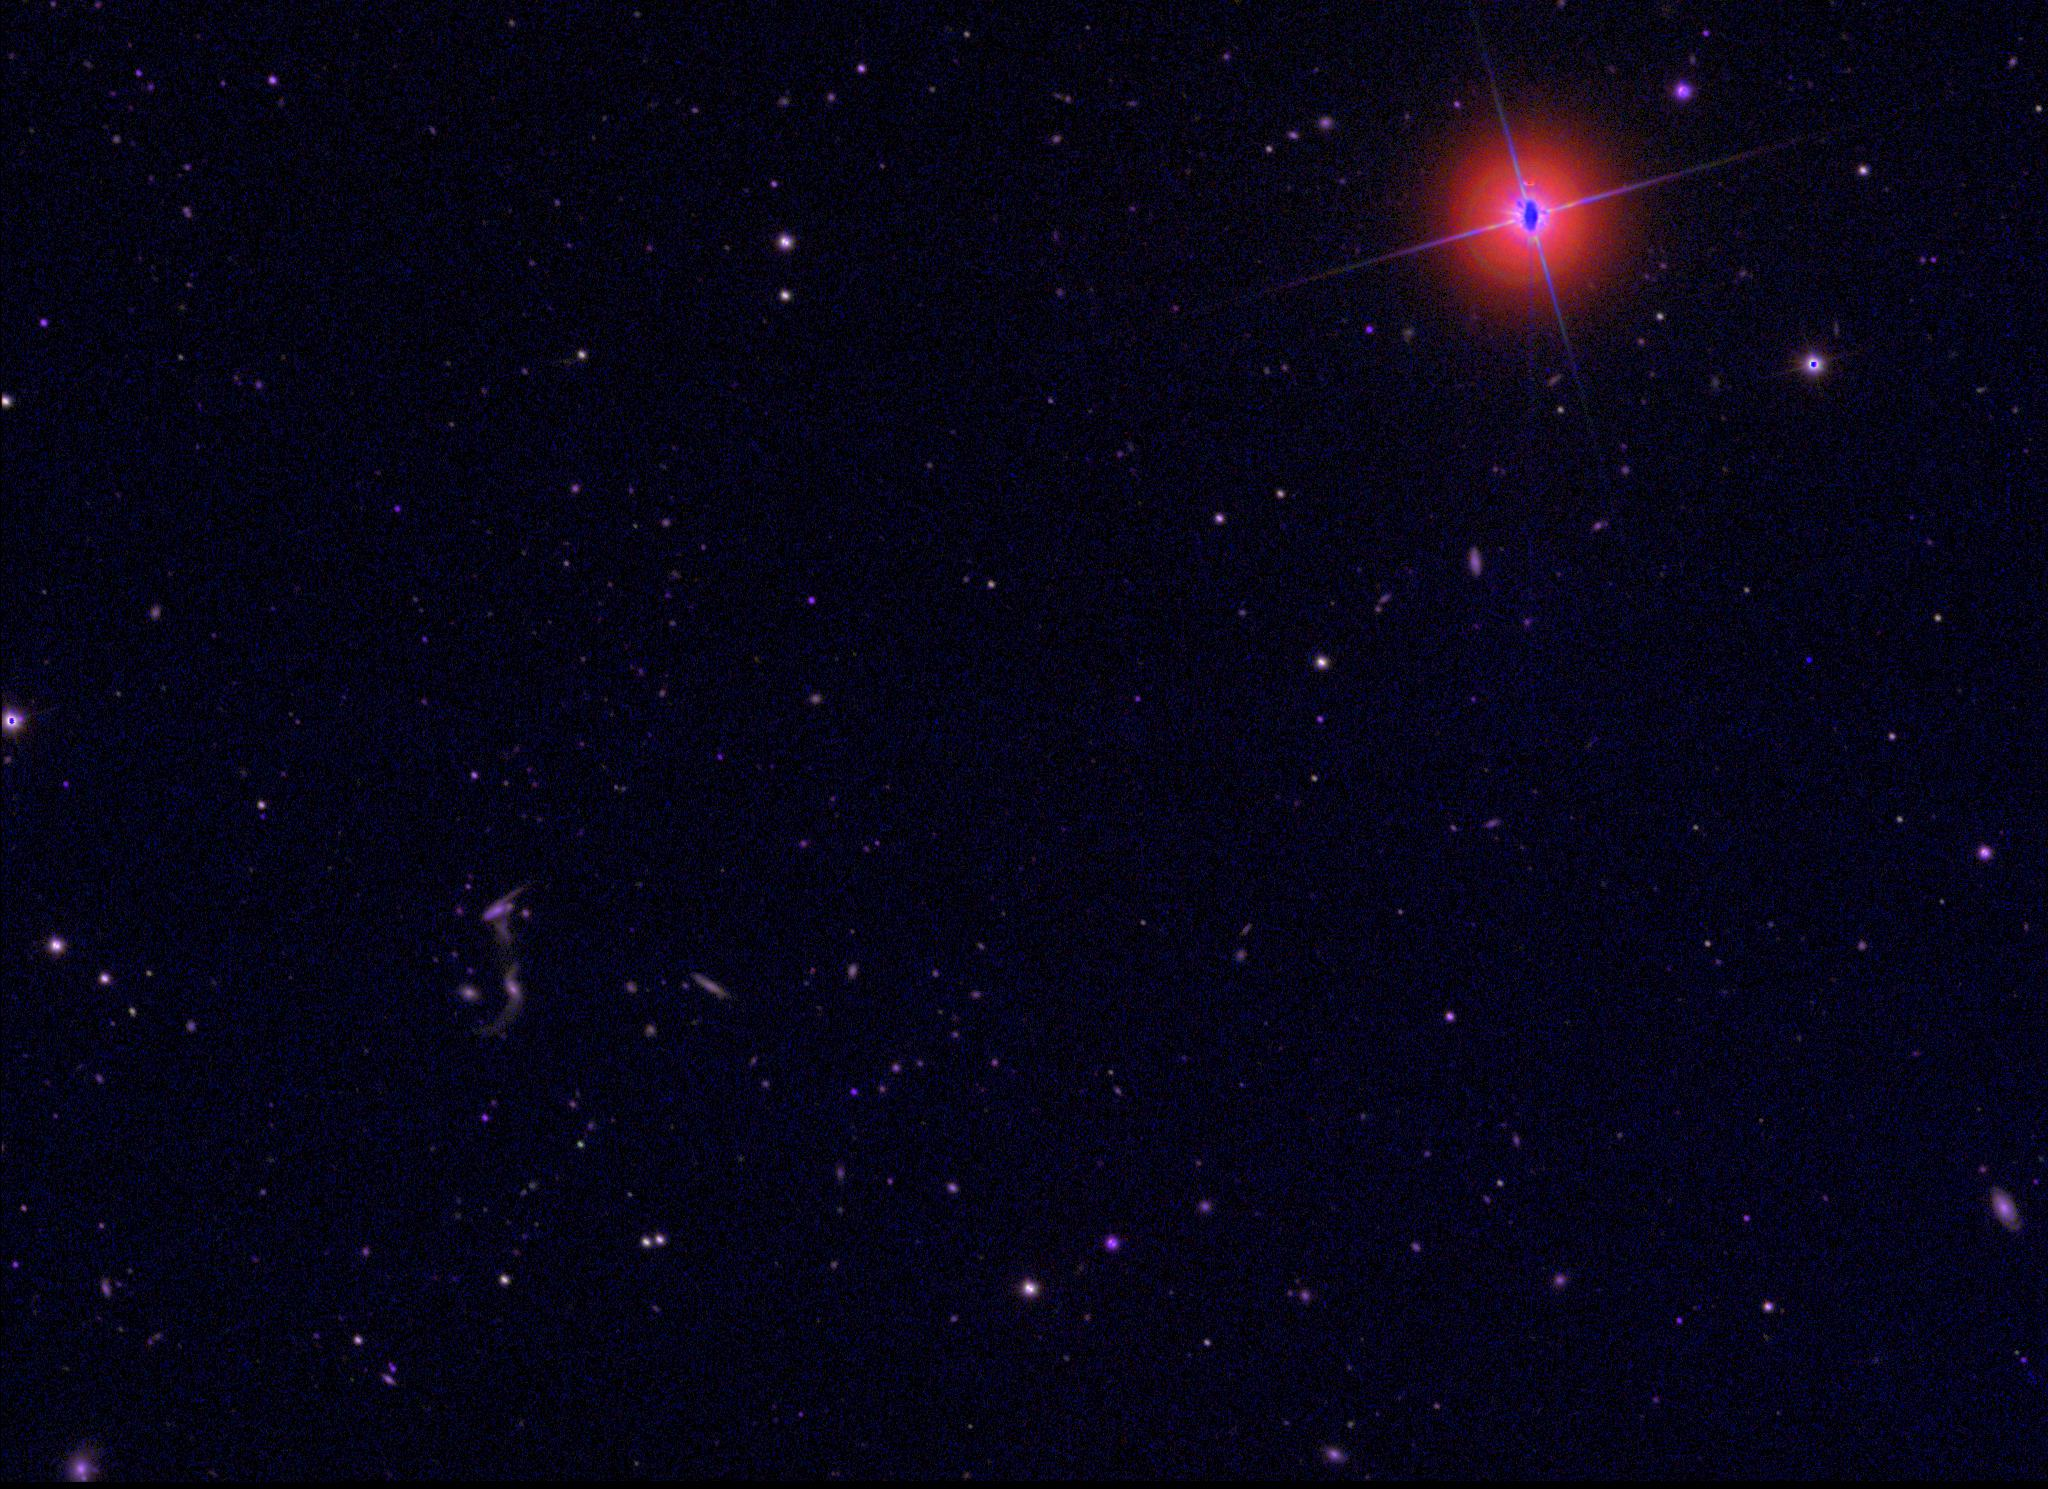L: (1802, 652, 1814, 667)
